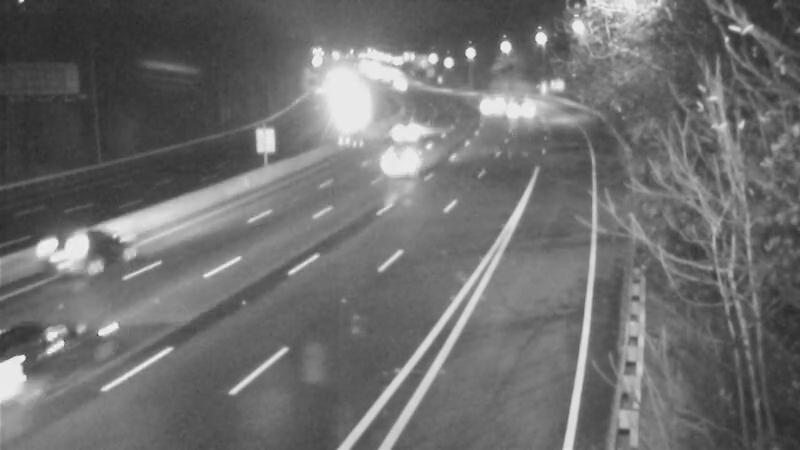vehicle: (1, 310, 94, 420), (361, 118, 441, 198), (24, 211, 104, 291), (457, 80, 507, 130), (495, 83, 545, 133), (384, 100, 434, 150)
